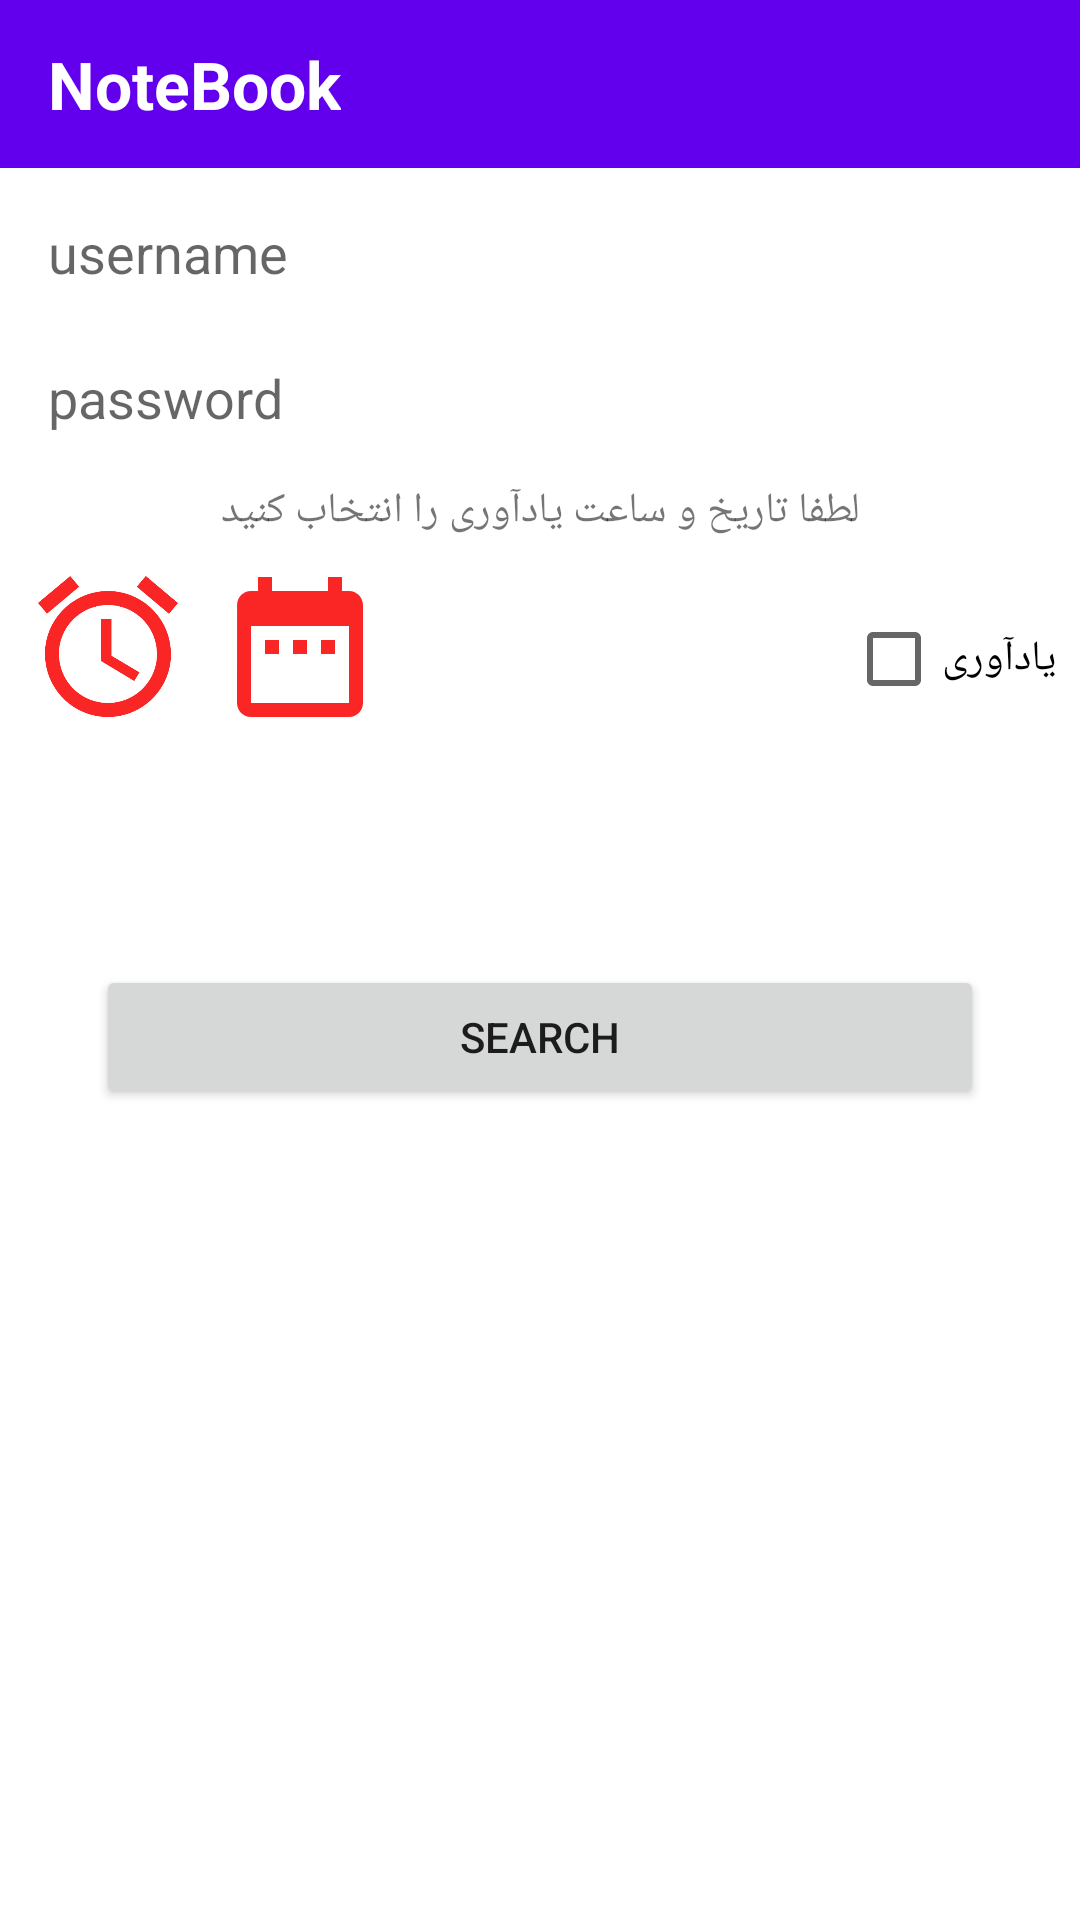

Where to tap for icons on this 1080w x 1920h app screen, as point (x, y):
access alarm: point (108, 646)
date range: point (300, 647)
